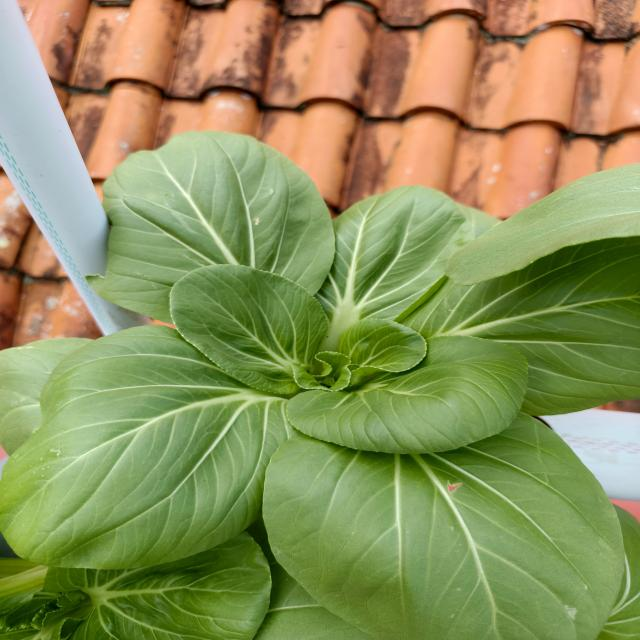daun-pakcoy: (263, 414, 623, 640), (0, 326, 293, 569), (87, 131, 335, 322), (404, 237, 640, 415), (316, 186, 497, 351), (286, 336, 528, 453), (170, 265, 328, 394), (0, 338, 93, 455), (338, 318, 426, 388)
